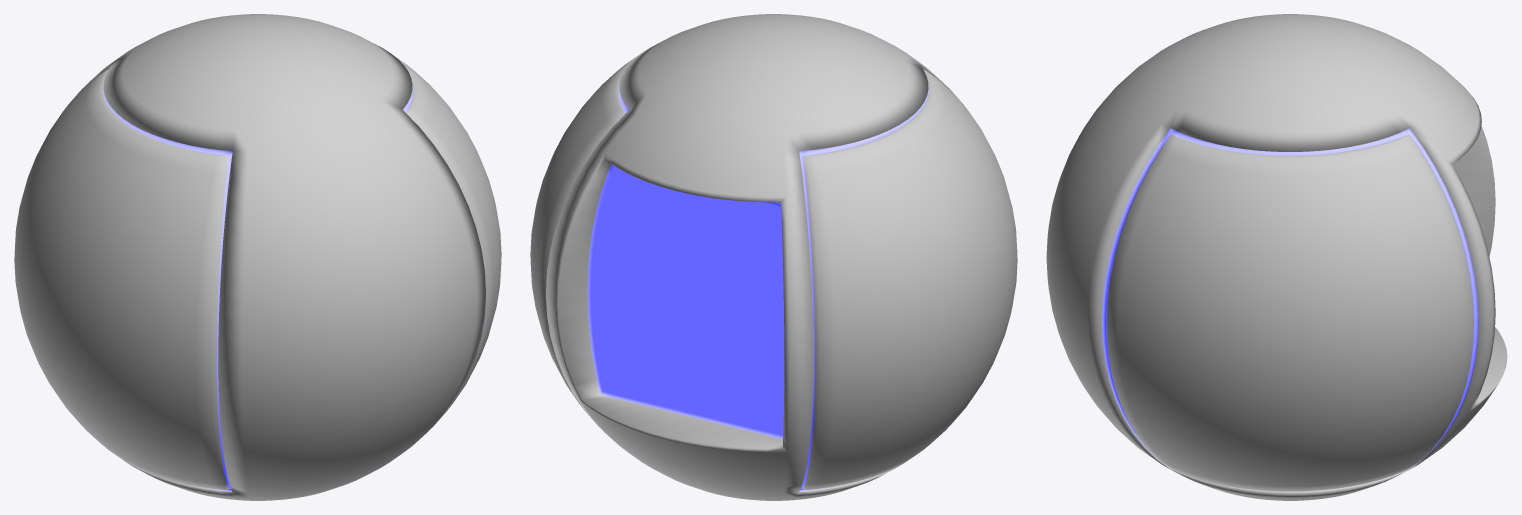
Rendered from Metal_Ball_with_Letter.fbx.
3 renders of one model, left to right at view 1: azimuth 30°, elevation 25°; view 2: azimuth 150°, elevation 25°; view 3: azimuth 270°, elevation 25°, orthographic.
Visible parts, largest first — view 1: Metal Sphere.001; view 2: Metal Sphere.001; view 3: Metal Sphere.001.
Part boxes in pixels (x1,y1,x2,y2): Metal Sphere.001: [14, 14, 501, 500]; Metal Sphere.001: [530, 14, 1017, 500]; Metal Sphere.001: [1046, 14, 1507, 500].
Bounding box in the file's own units: 200 × 189 × 200.
